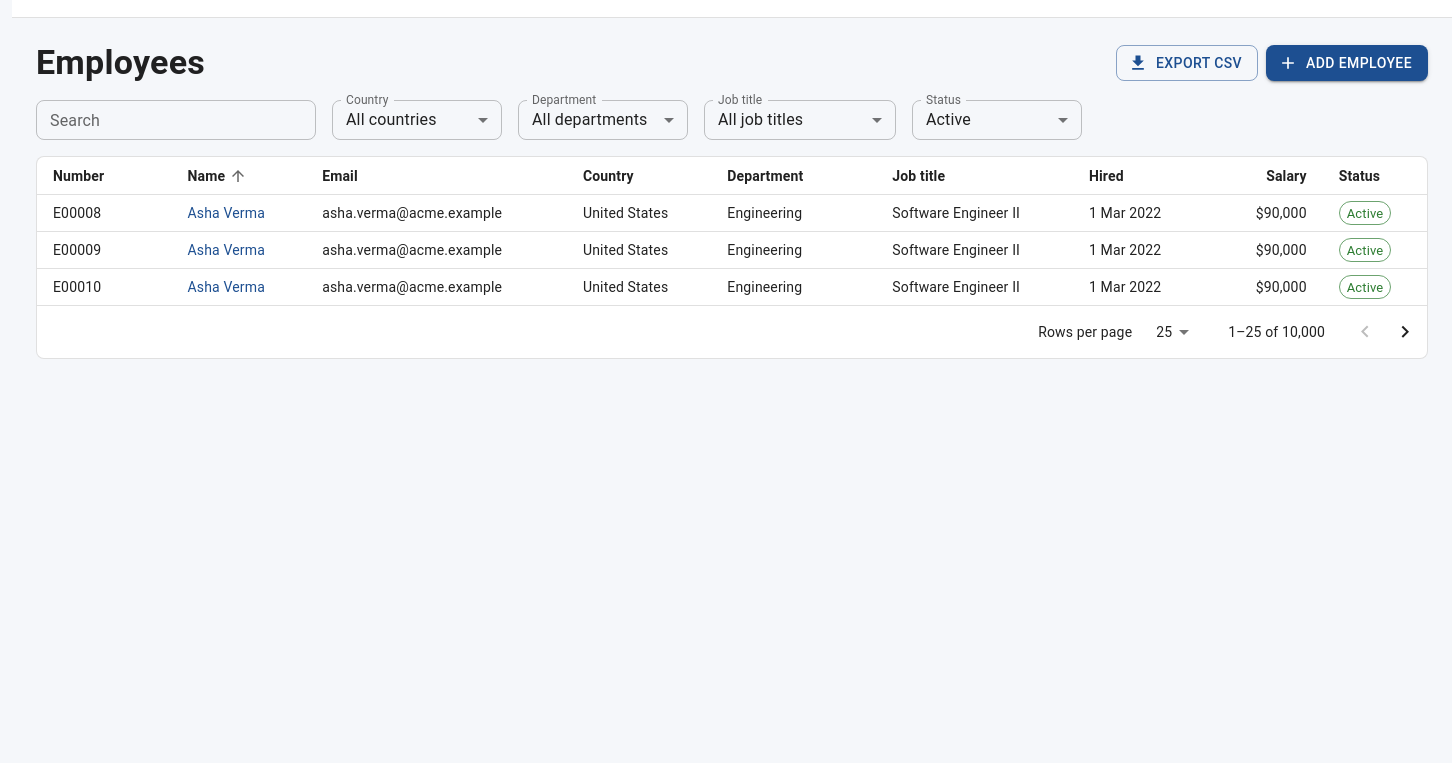
Test case: the employee directory › paging › moves to the next and previous page, and keeps the page in the URL
What coordinates should you click on to do the following:
click the button named "Go to next page"
I would click on:
 (1405, 332)
Its box is [1385,312,1425,352].
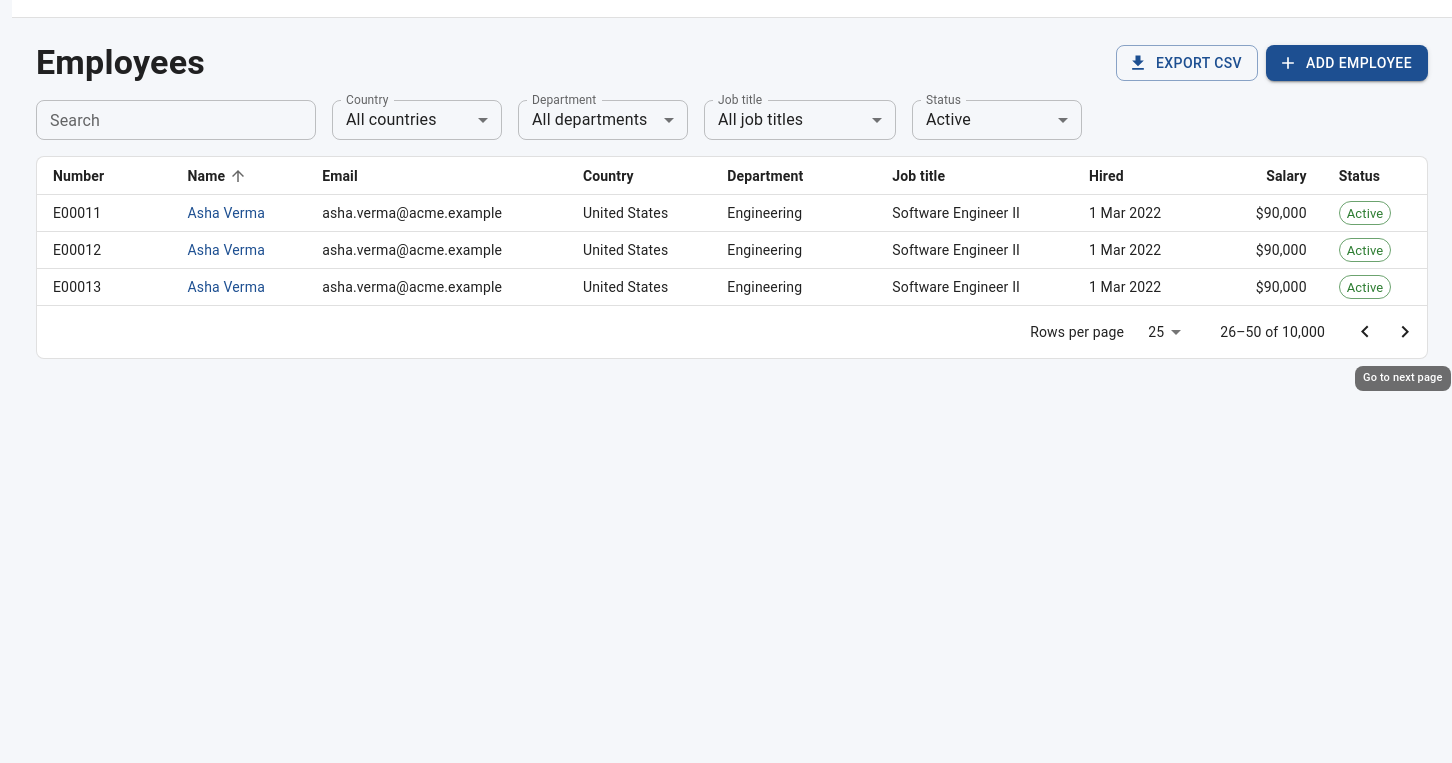
Expected: the text "26–50 of 10,000" is shown, [1220,322,1325,342]
What coordinates should you click on to do the following:
click the button named "Go to previous page"
I would click on:
 (1365, 332)
Its box is [1345,312,1385,352].
(page scrolled)
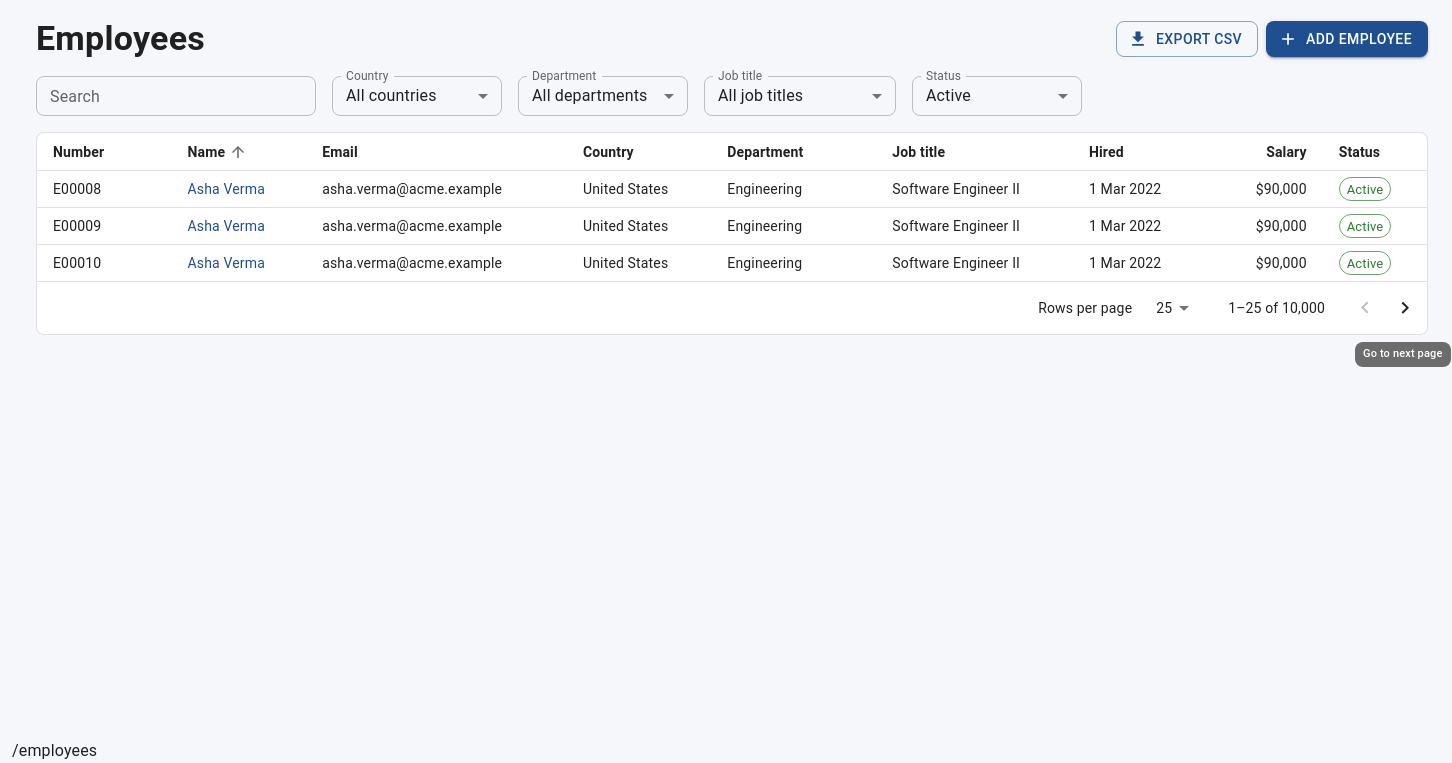
Expected: the text "1–25 of 10,000" is shown, [1228,298,1325,318]
Expected: the text with test id "location" reads "/employees", [12,741,97,760]
